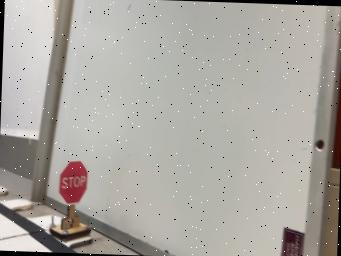stop: (49, 160, 90, 239), (49, 160, 90, 239), (49, 160, 90, 239), (49, 160, 90, 239), (49, 160, 90, 239), (49, 160, 90, 239)
street: (0, 202, 77, 253), (0, 202, 77, 253), (0, 202, 77, 253), (0, 202, 77, 253), (0, 202, 77, 253), (0, 202, 77, 253)
